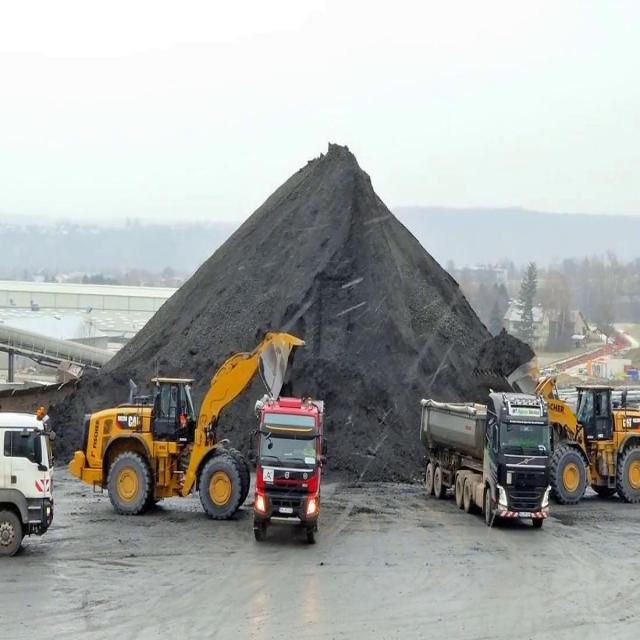buldozerpayloadergrader: (68, 331, 306, 524), (471, 346, 639, 506)
dump_truck: (416, 384, 552, 532), (250, 388, 327, 548)
